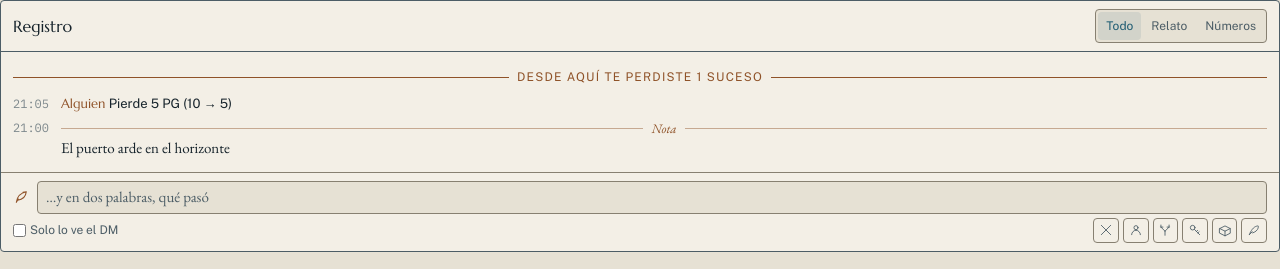
Test: ColumnaDelRegistro › con «Números» puesto, el suceso de relato desaparece y el de números se queda
Expected: the text "El puerto arde en el horizonte" is shown, [61, 138, 230, 157]
Click the radio button labelled "Números" at (1231, 26), box [1197, 12, 1264, 40]
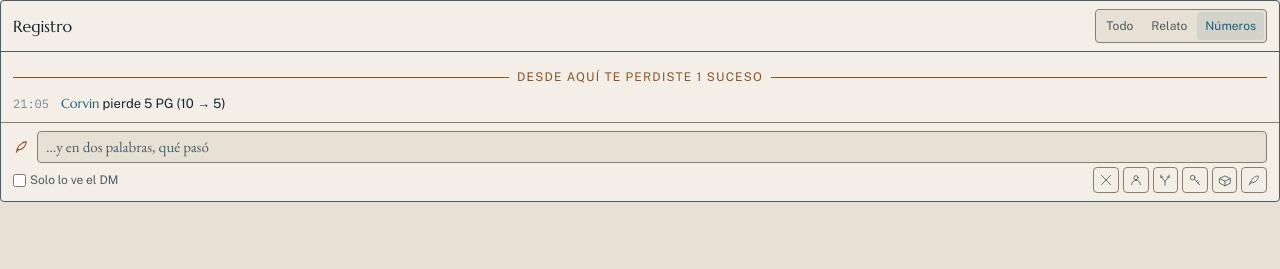
Expected: the list item "21:05 Corvin pierde 5 PG (10 → 5)" is shown, [12, 95, 225, 112]
Result: the text "El puerto arde en el horizonte" is gone
